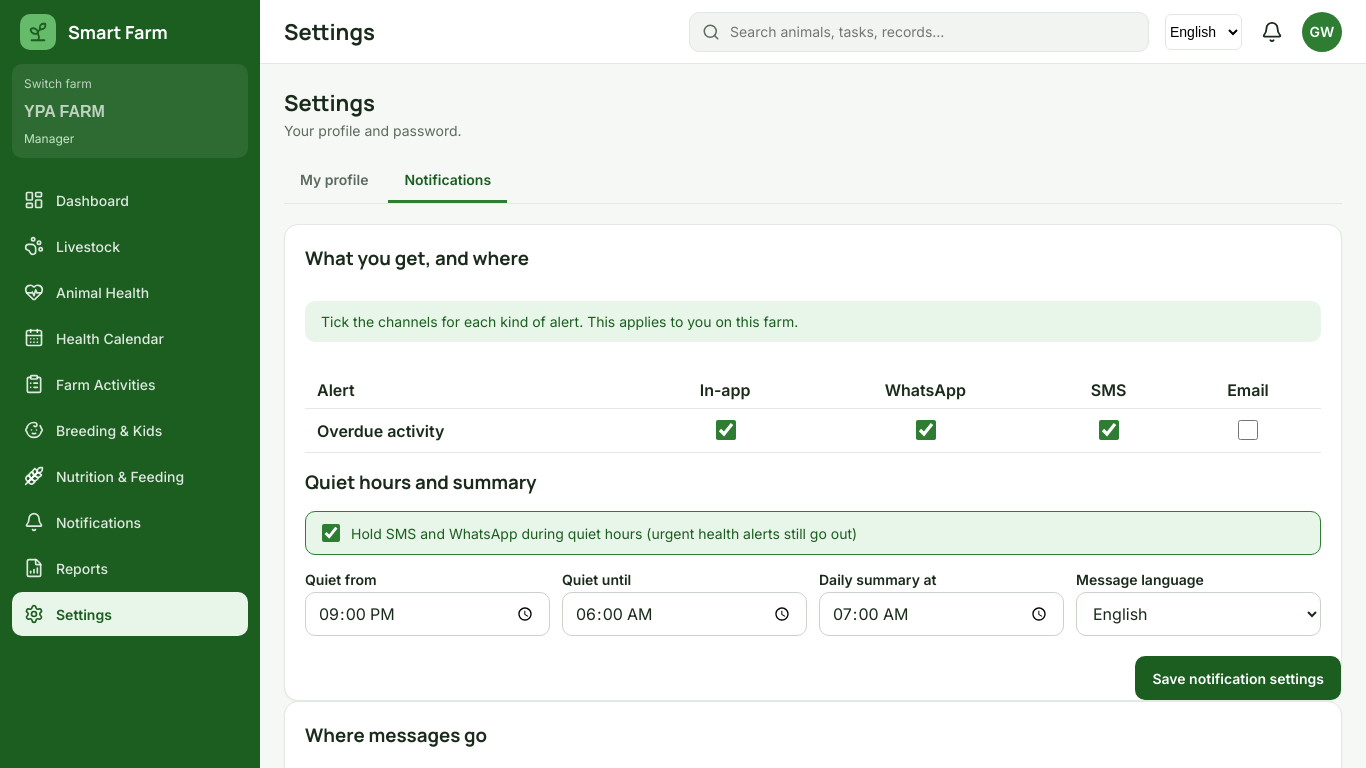
Test case: notifications › saves the channel matrix and quiet hours
The width and height of the screenshot is (1366, 768).
Click the checkbox named "Overdue activity: SMS" at {"x": 1109, "y": 430}, box [1099,420,1119,440]
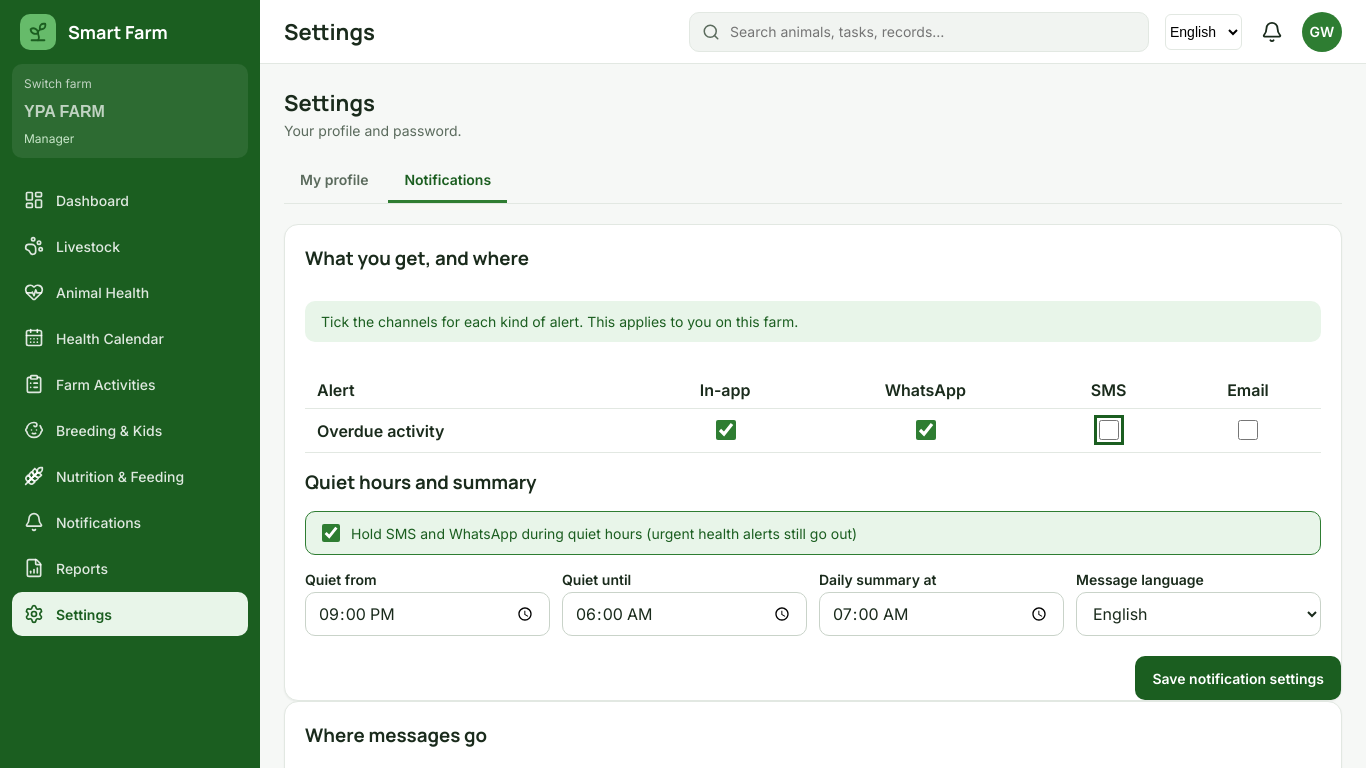
Replace the text in the time field labelled "Quiet from" with "22:00" at {"x": 428, "y": 614}, box [305,592,550,636]
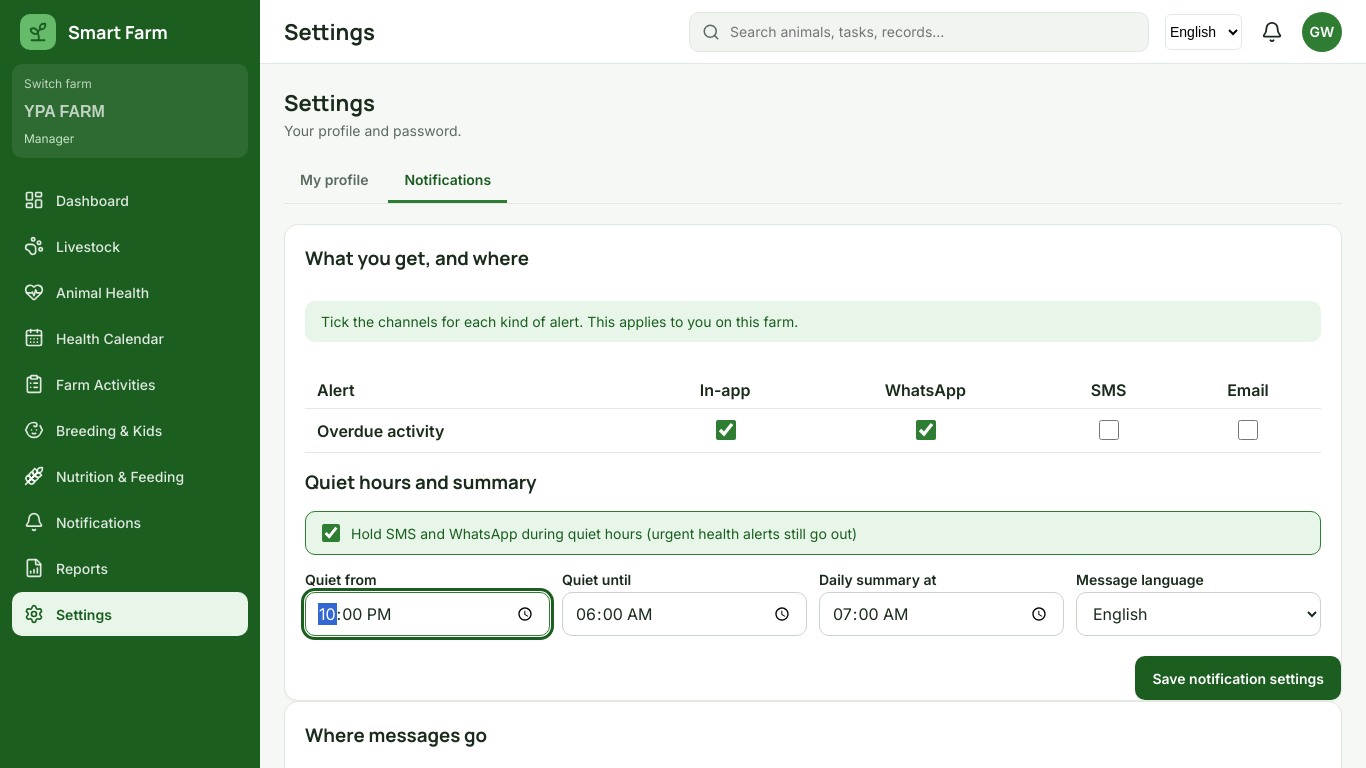
Click the button "Save notification settings" at {"x": 1238, "y": 678}, box [1135,656,1341,700]
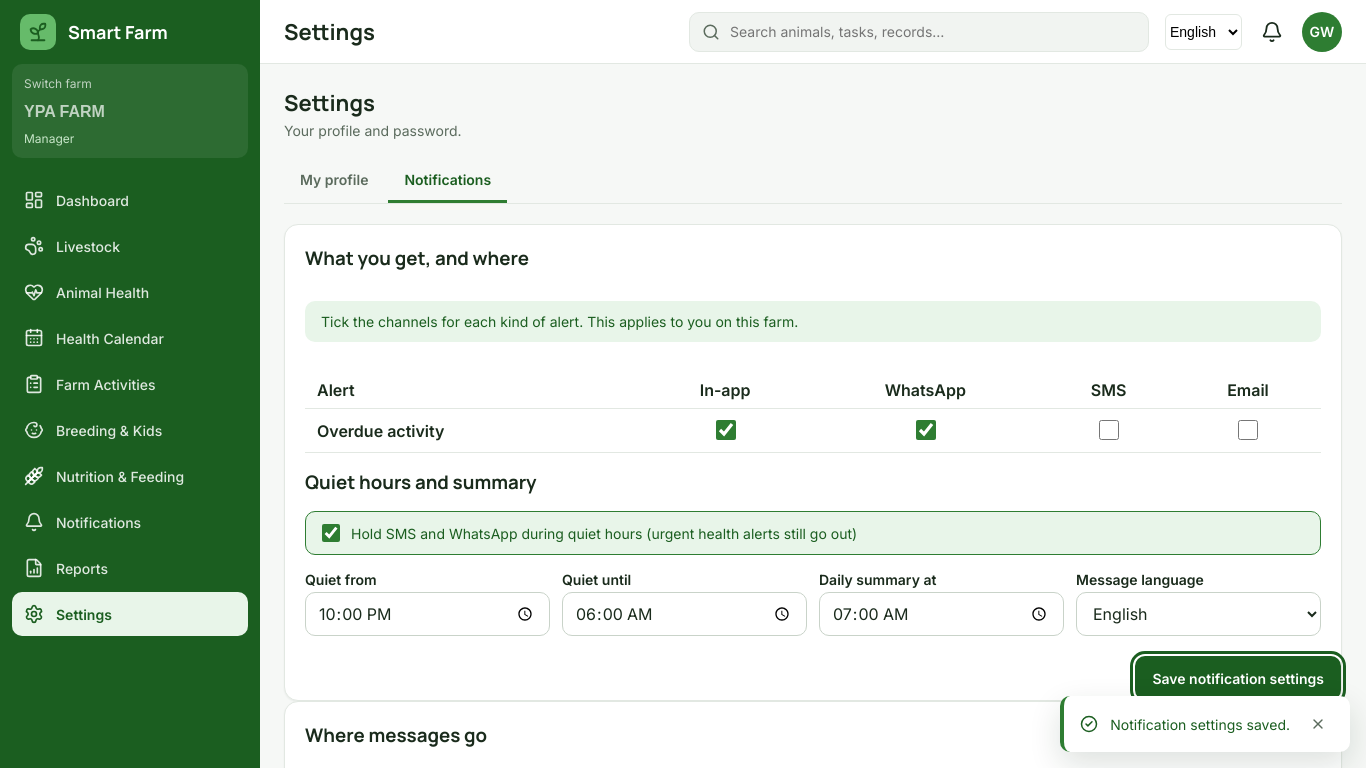
Now the text "Notification settings saved." is shown, box [1110,716,1290,732]
